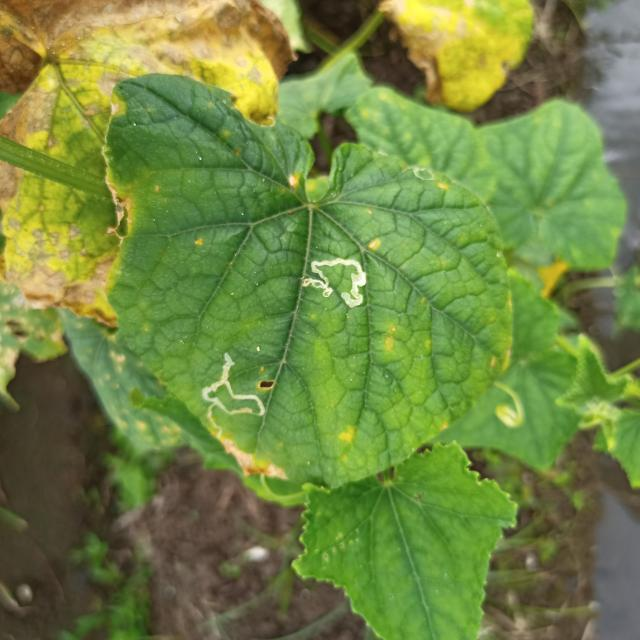disease_cucumber: (490, 341, 515, 376), (337, 426, 358, 449), (382, 325, 398, 350), (288, 172, 299, 190), (368, 237, 379, 253), (193, 236, 205, 249), (436, 182, 449, 192)
